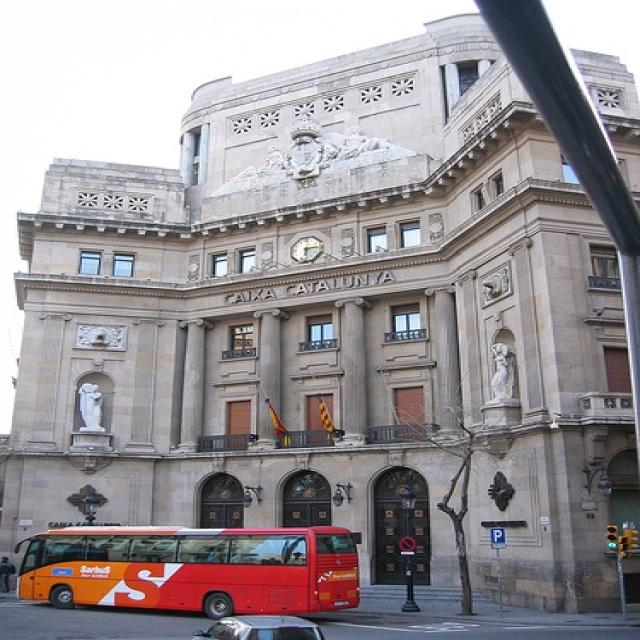bus: (12, 525, 360, 619)
car: (189, 616, 326, 638)
